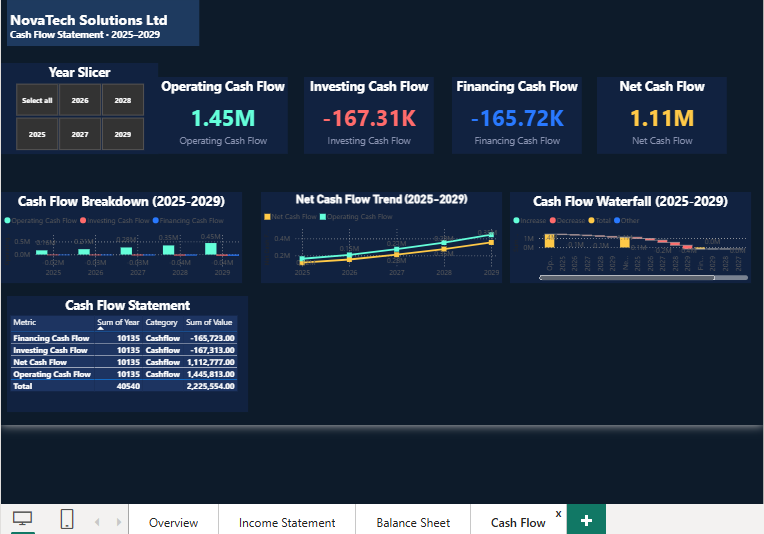

Layout of this report page (visuals, bound fields, positions):
{"tool":"powerbi","page":{"name":"Cash Flow","canvas":[1280,720],"ordinal":3},"visuals":[{"type":"textbox","box":[10.1,0,322.5,84],"z":0},{"type":"slicer","title":"Year Slicer","fields":{"Values":["NovaTech Solutions Ltd  (FinancialData).Year"]},"box":[0,112.5,263.7,152.9],"z":1000},{"type":"card","title":"Operating Cash Flow","fields":{"Values":["NovaTech Solutions Ltd  (FinancialData).Operating Cash Flow"]},"box":[263.7,136.1,218.4,129.3],"z":2000},{"type":"card","title":"Investing Cash Flow","fields":{"Values":["NovaTech Solutions Ltd  (FinancialData).Investing Cash Flow"]},"box":[509,136.1,218.4,129.3],"z":3000},{"type":"card","title":"Financing Cash Flow","fields":{"Values":["NovaTech Solutions Ltd  (FinancialData).Financing Cash Flow"]},"box":[757.6,136.1,218.4,129.3],"z":4000},{"type":"card","title":"Net Cash Flow","fields":{"Values":["NovaTech Solutions Ltd  (FinancialData).Net Cash Flow"]},"box":[1001.2,136.1,218.4,129.3],"z":5000},{"type":"clusteredColumnChart","title":"Cash Flow Breakdown (2025-2029)","fields":{"Category":["NovaTech Solutions Ltd  (FinancialData).Year"],"Y":["NovaTech Solutions Ltd  (FinancialData).Operating Cash Flow","NovaTech Solutions Ltd  (FinancialData).Investing Cash Flow","NovaTech Solutions Ltd  (FinancialData).Financing Cash Flow"]},"box":[0,329.2,404.8,152.9],"z":6000},{"type":"lineChart","title":"Net Cash Flow Trend (2025-2029)","fields":{"Category":["NovaTech Solutions Ltd  (FinancialData).Year"],"Y":["NovaTech Solutions Ltd  (FinancialData).Net Cash Flow","NovaTech Solutions Ltd  (FinancialData).Operating Cash Flow"]},"box":[436.7,329.2,404.8,152.9],"z":7000},{"type":"waterfallChart","title":"Cash Flow Waterfall (2025-2029)","fields":{"Category":["NovaTech Solutions Ltd  (FinancialData).Metric","NovaTech Solutions Ltd  (FinancialData).Category"],"Y":["Sum(NovaTech Solutions Ltd  (FinancialData).Value)"],"Breakdown":["NovaTech Solutions Ltd  (FinancialData).Year"]},"box":[855,329.2,404.8,152.9],"z":8000},{"type":"tableEx","title":"Cash Flow Statement","fields":{"Values":["NovaTech Solutions Ltd  (FinancialData).Metric","Sum(NovaTech Solutions Ltd  (FinancialData).Value)"]},"box":[10.1,503.9,404.8,194.9],"z":9000}]}

Visuals, with their boxes on the page's 1280x720 design canvas (x1, y1, x2, y2). These are canvas units, not pixel positions in the 764x534 screenshot, which may show the page scaled, cropped or inside an application window:
textbox: crop(10, 0, 333, 84)
"Year Slicer" slicer: crop(0, 112, 264, 265)
"Operating Cash Flow" card: crop(264, 136, 482, 265)
"Investing Cash Flow" card: crop(509, 136, 727, 265)
"Financing Cash Flow" card: crop(758, 136, 976, 265)
"Net Cash Flow" card: crop(1001, 136, 1220, 265)
"Cash Flow Breakdown (2025-2029)" clusteredColumnChart: crop(0, 329, 405, 482)
"Net Cash Flow Trend (2025-2029)" lineChart: crop(437, 329, 842, 482)
"Cash Flow Waterfall (2025-2029)" waterfallChart: crop(855, 329, 1260, 482)
"Cash Flow Statement" tableEx: crop(10, 504, 415, 699)
